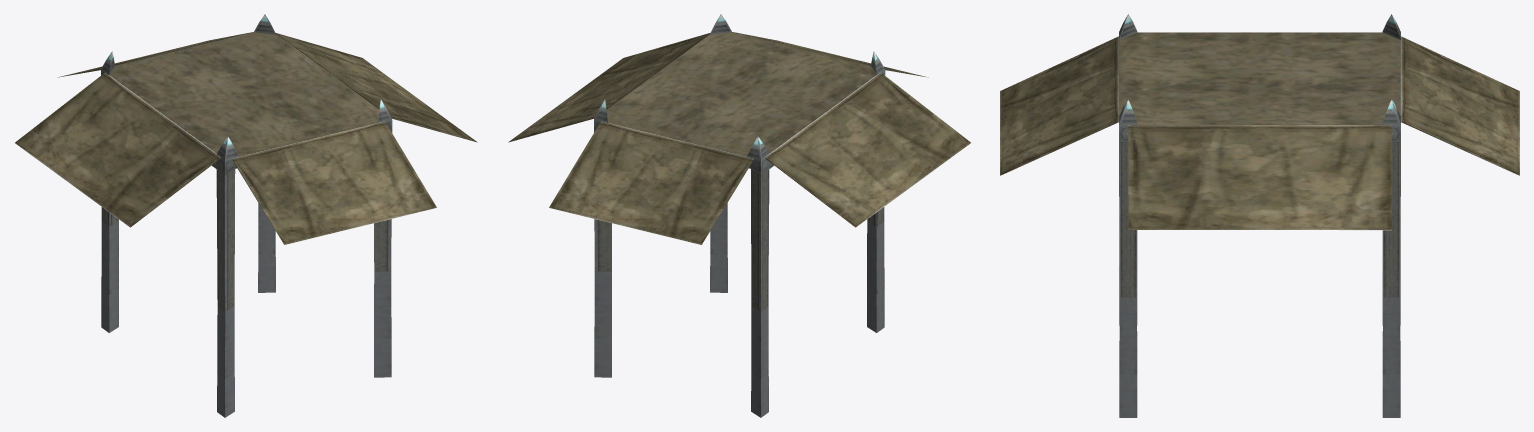
The model's file is eqp_camping_pavilion_s1_l2.fbx.
3 renders of one model, left to right at view 1: azimuth 30°, elevation 25°; view 2: azimuth 150°, elevation 25°; view 3: azimuth 270°, elevation 25°, orthographic. The views are drawn at different scales.
Parts seen in each view (by area): view 1: mesh_node; view 2: mesh_node; view 3: mesh_node.
Boxes of the visible parts, left/top/right/bottom form: mesh_node: left=15, top=14, right=477, bottom=417; mesh_node: left=508, top=14, right=970, bottom=417; mesh_node: left=1000, top=14, right=1519, bottom=417.
Size of the model in its own units: 14.58 by 11.1 by 16.58.
Materials: 1 (1 with a texture image).
